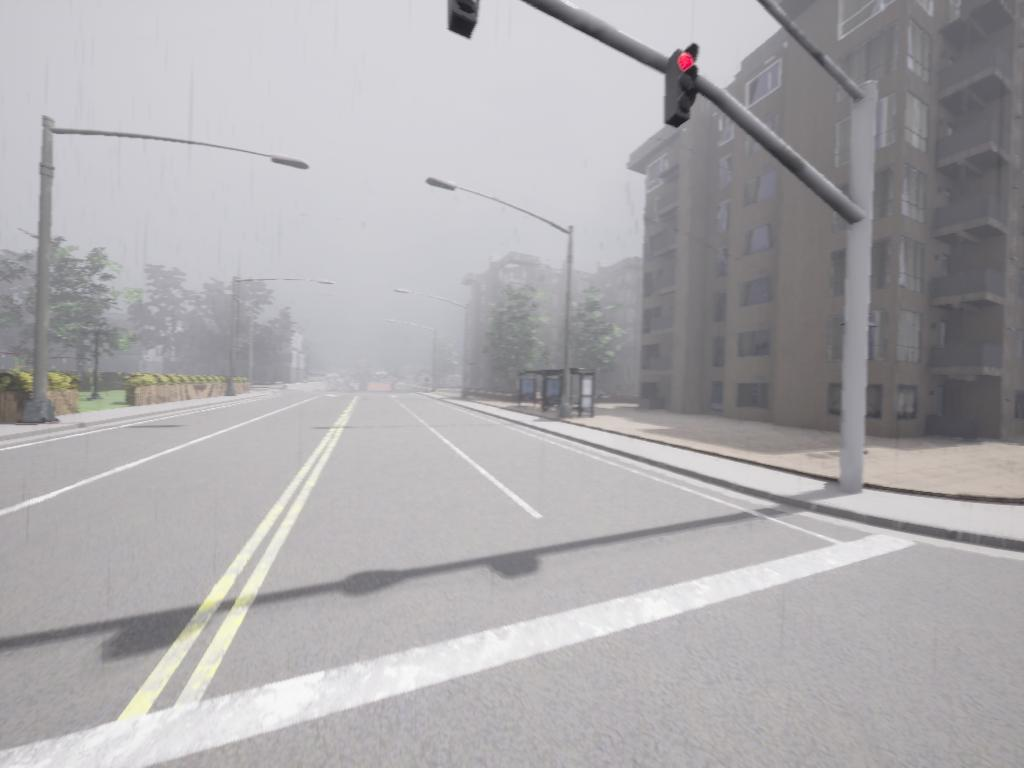traffic_light: (660, 43, 701, 127), (446, 1, 481, 41)
